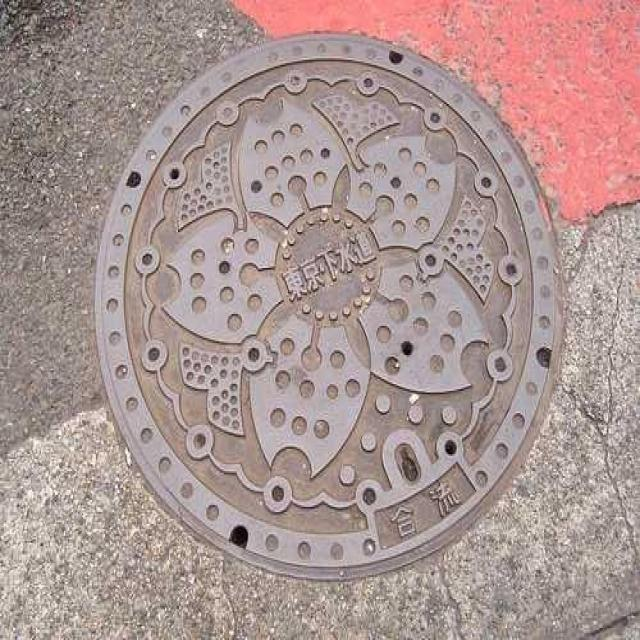manhole: (96, 35, 562, 578)
